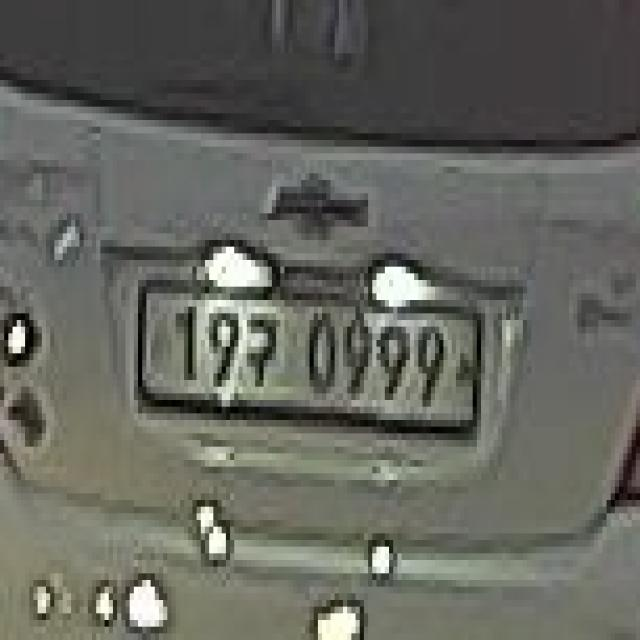0: (301, 306, 339, 406)
1: (167, 287, 205, 400)
9: (205, 300, 243, 400), (410, 320, 448, 420), (335, 313, 372, 407), (376, 320, 410, 413)
gu: (243, 307, 280, 400)
license_plate: (130, 274, 489, 454)
